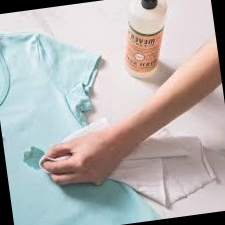oil: (20, 145, 39, 170), (31, 143, 49, 157)
